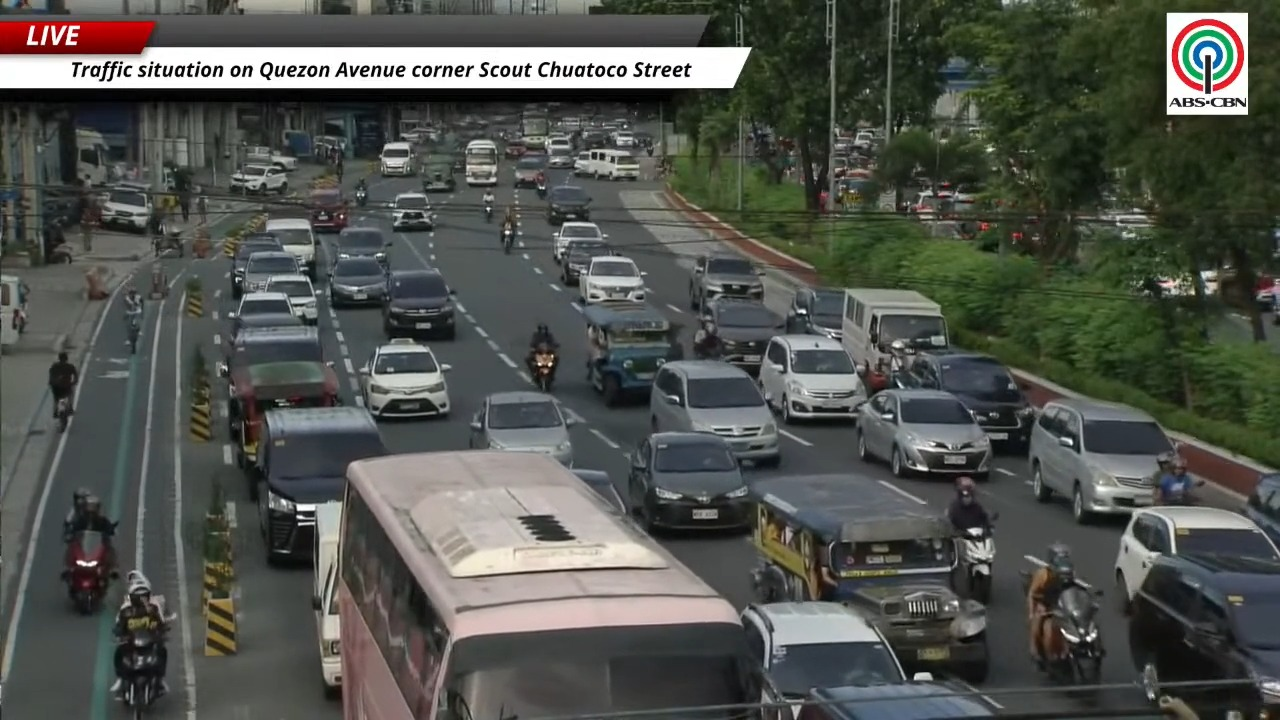bus: (339, 451, 760, 719), (464, 139, 498, 185), (521, 114, 550, 149)
car: (1127, 553, 1279, 716), (247, 407, 387, 563), (1028, 398, 1174, 523), (741, 601, 907, 702), (1114, 506, 1279, 607), (895, 350, 1034, 453), (649, 360, 780, 465), (627, 432, 753, 531), (855, 389, 992, 480), (758, 334, 866, 423), (469, 391, 575, 466), (794, 681, 998, 719), (359, 339, 450, 417), (702, 296, 784, 373), (217, 324, 331, 377), (383, 269, 456, 339), (689, 254, 762, 309), (230, 233, 283, 298), (264, 217, 317, 281), (579, 255, 645, 304), (227, 291, 295, 338), (787, 287, 844, 339), (328, 257, 386, 307), (265, 273, 317, 324), (572, 468, 627, 516), (1243, 473, 1279, 544), (100, 186, 154, 232), (227, 309, 304, 341), (241, 251, 300, 292), (561, 240, 613, 285), (332, 226, 389, 266), (553, 222, 607, 262), (547, 185, 590, 225), (229, 165, 288, 194), (309, 188, 348, 231), (392, 192, 434, 231), (513, 153, 547, 187), (422, 159, 455, 192), (546, 135, 572, 157), (548, 147, 574, 168), (582, 130, 608, 149), (573, 151, 591, 177), (504, 139, 526, 158), (612, 130, 634, 148)
motorcycle: (1041, 583, 1104, 684), (65, 531, 111, 614), (121, 631, 161, 719), (953, 528, 995, 604), (1154, 479, 1204, 506), (533, 347, 557, 392), (153, 224, 184, 257), (55, 395, 72, 433), (693, 339, 722, 359), (127, 312, 140, 354), (503, 227, 513, 253), (355, 189, 367, 206), (536, 181, 546, 198), (484, 203, 492, 223)
truck: (312, 501, 342, 694), (76, 128, 110, 186)
